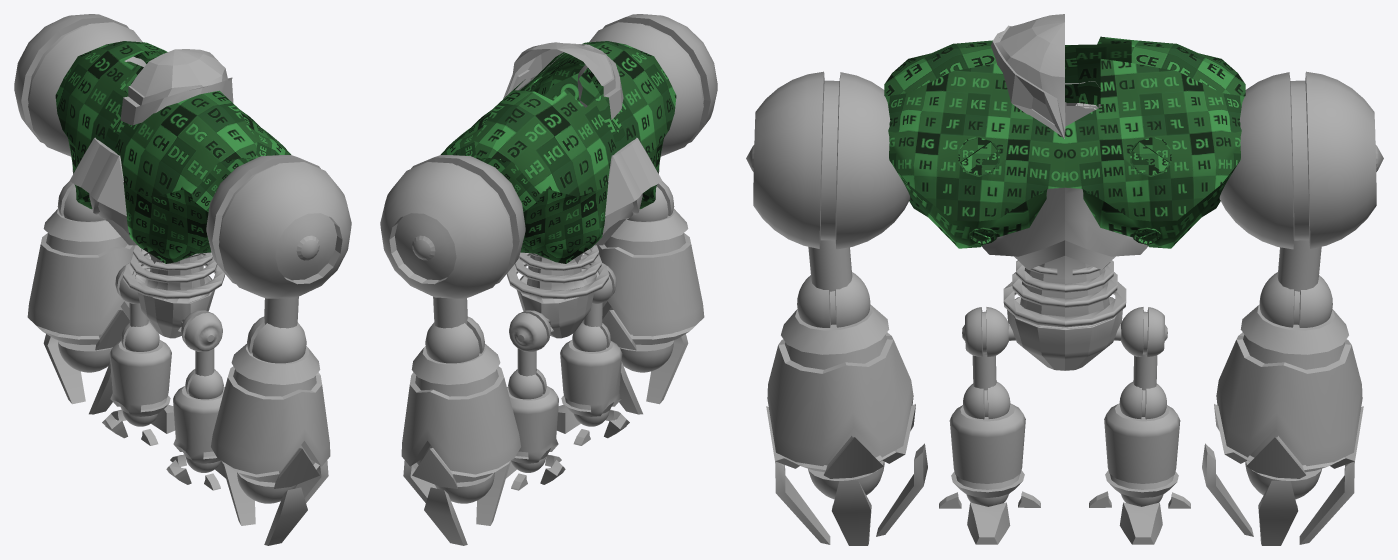
Rendered from uv on chest 2 .fbx.
The picture shows the model from 3 angles, left to right: view 1: azimuth 30°, elevation 25°; view 2: azimuth 150°, elevation 25°; view 3: azimuth 270°, elevation 25°; orthographic projection. The views are drawn at different scales.
Parts seen in each view (by area): view 1: chest_top, R_Shoulder, R_Forarm, L_Forarm, L_Shoulder, chest_top1, head, L_Calf, stomach_and_hips, R_Calf, vent_shell, R_eLBOW (+19 smaller); view 2: chest_top1, L_Shoulder, L_Forarm, R_Forarm, chest_top, R_Shoulder, R_Calf, head, stomach_and_hips, L_Calf, vent_shell, L_eLBOW (+19 smaller); view 3: chest_top1, chest_top, R_Shoulder, L_Shoulder, R_Forarm, L_Forarm, stomach_and_hips, head, R_Calf, L_Calf, chest_layer_2, R_eLBOW (+23 smaller).
Boxes of the visible parts, x1,y1,x2,y2 form: chest_top: [109, 90, 291, 263]; R_Shoulder: [206, 155, 351, 298]; R_Forarm: [211, 344, 330, 488]; L_Forarm: [27, 208, 134, 350]; L_Shoulder: [14, 14, 146, 156]; chest_top1: [55, 41, 167, 209]; head: [120, 49, 233, 125]; L_Calf: [109, 340, 171, 416]; stomach_and_hips: [135, 254, 214, 338]; R_Calf: [173, 386, 224, 463]; vent_shell: [69, 137, 126, 216]; R_eLBOW: [247, 316, 306, 363]; chest_top1: [440, 79, 622, 263]; L_Shoulder: [380, 155, 525, 298]; L_Forarm: [401, 344, 520, 488]; R_Forarm: [597, 208, 704, 350]; chest_top: [519, 41, 676, 209]; R_Shoulder: [577, 14, 717, 156]; R_Calf: [560, 340, 622, 416]; head: [503, 42, 623, 119]; stomach_and_hips: [517, 254, 596, 338]; L_Calf: [507, 386, 558, 463]; vent_shell: [605, 137, 662, 216]; L_eLBOW: [425, 316, 484, 363]; chest_top1: [1065, 36, 1245, 248]; chest_top: [884, 40, 1065, 248]; R_Shoulder: [746, 71, 910, 249]; L_Shoulder: [1219, 71, 1383, 249]; R_Forarm: [766, 304, 915, 478]; L_Forarm: [1214, 304, 1363, 478]; stomach_and_hips: [1007, 256, 1122, 370]; head: [991, 14, 1065, 138]; R_Calf: [949, 403, 1025, 497]; L_Calf: [1104, 403, 1180, 497]; chest_layer_2: [981, 104, 1148, 256]; R_eLBOW: [797, 272, 870, 327].
Size of the model in its own units: 0.6693 by 1.59 by 1.77.
2 materials, 1 textured.
